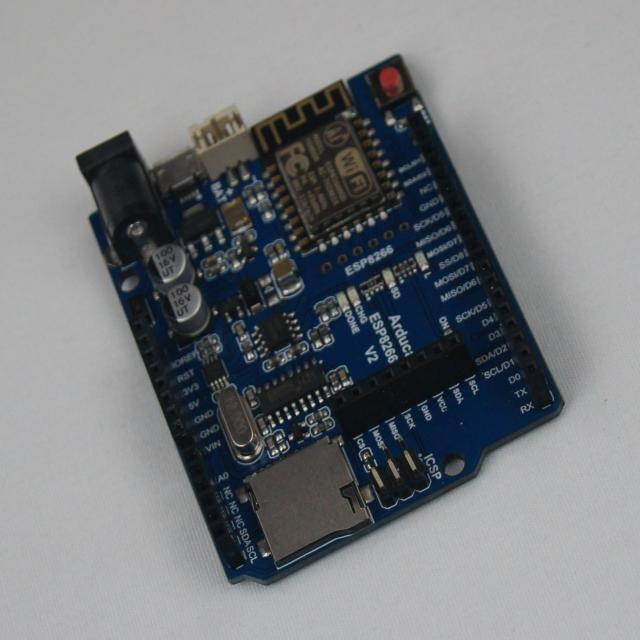Arduino Uno Camera Shield: (78, 57, 564, 582)
